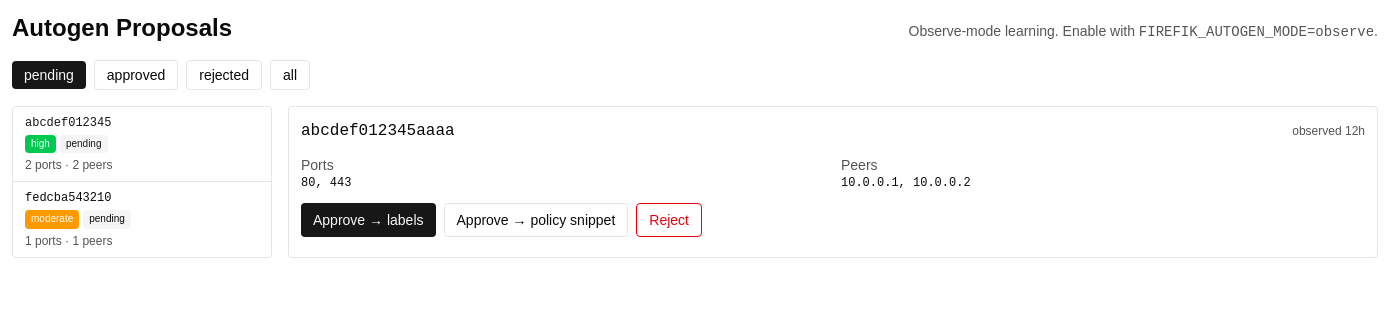
it: ProposalsPage › approves as policy when the policy button is pressed
Expected: the text "abcdef012345" is shown, [25, 116, 111, 130]
What coordinates should you click on to do the following:
click the button "Approve → policy snippet"
I would click on:
 (536, 220)
Its box is [444, 203, 628, 237].
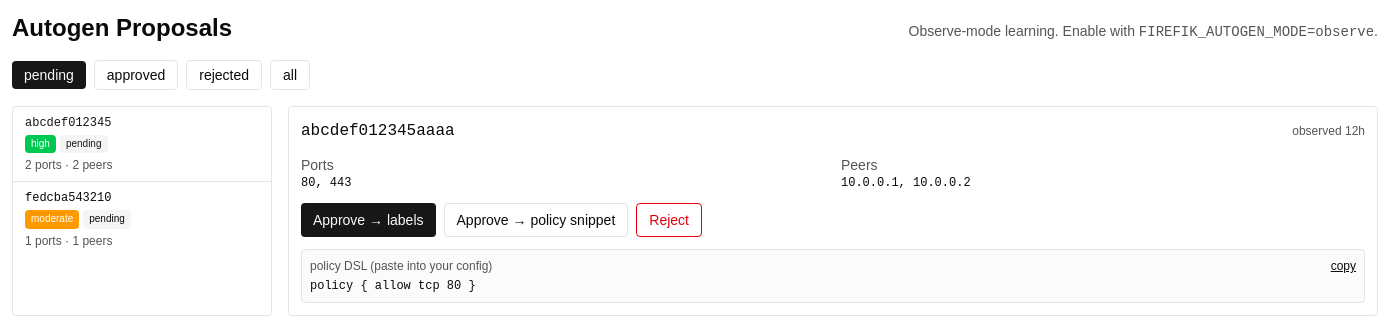
Result: the text "policy DSL (paste into your config)" is shown at [310, 258, 492, 274]
